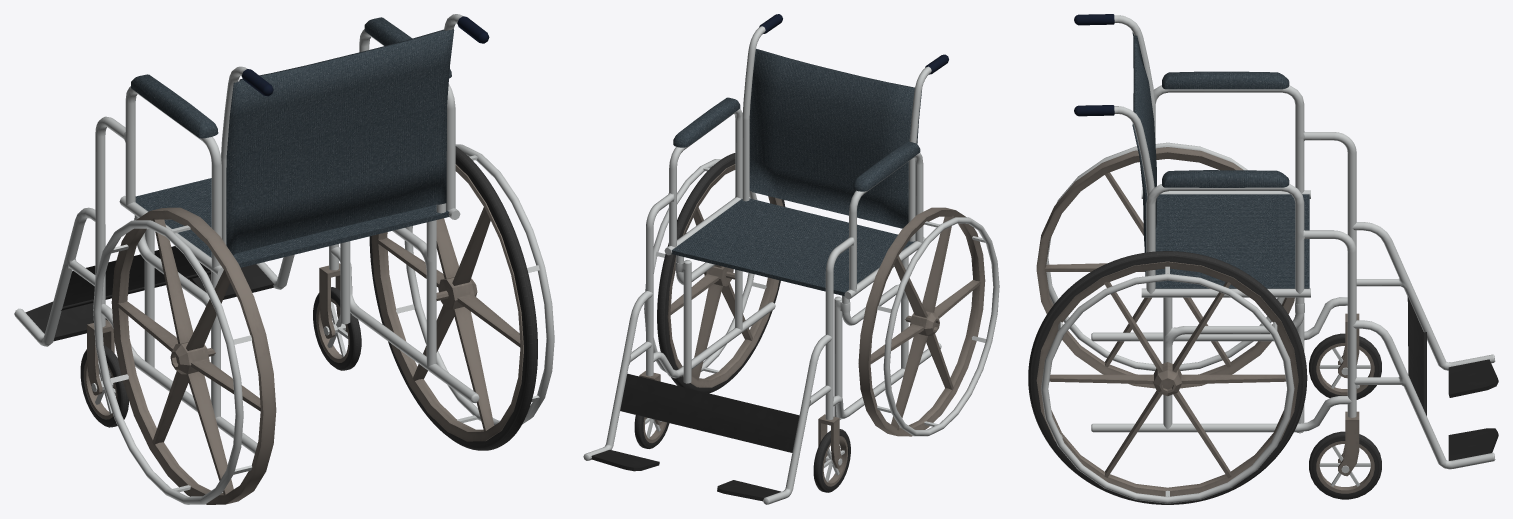
3 views of the same model, side by side, from view 1: azimuth 30°, elevation 25°; view 2: azimuth 150°, elevation 25°; view 3: azimuth 270°, elevation 25° (orthographic). The views are drawn at different scales.
Visible parts, largest first — view 1: lunyi; view 2: lunyi; view 3: lunyi.
Boxes of the visible parts, x1,y1,x2,y2 form: lunyi: [14, 14, 554, 504]; lunyi: [583, 14, 999, 504]; lunyi: [1028, 14, 1498, 504].
Bounding box in the file's own units: 70.28 × 95.19 × 104.
